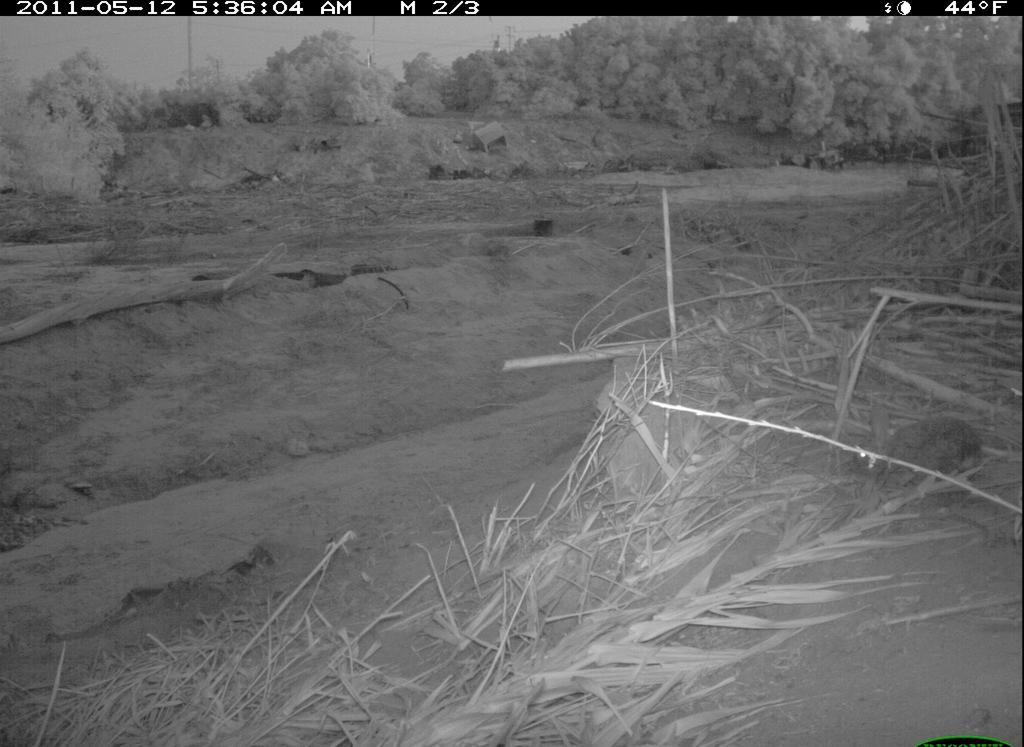rabbit: (839, 395, 999, 510)
